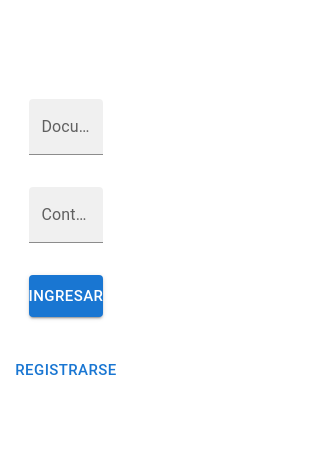
it: Login › should render errors when inputs arent filled
This screenshot has width=320, height=475.
Click the button with test id "login-button".
click(66, 296)  # box [29,275,103,317]
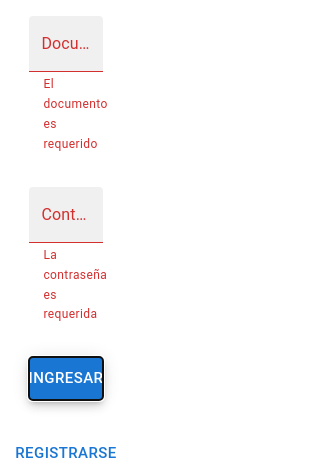
Expected: the text "El documento es requerido" is shown, [43,75,89,155]
Expected: the text "La contraseña es requerida" is shown, [43,246,89,325]
